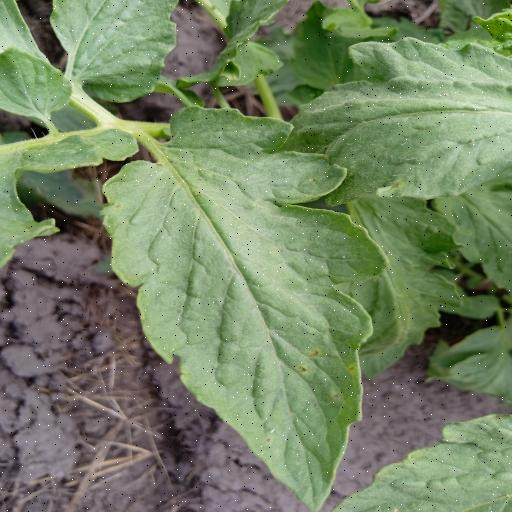Tomato_Brown_Spots: (96, 98, 391, 512)
